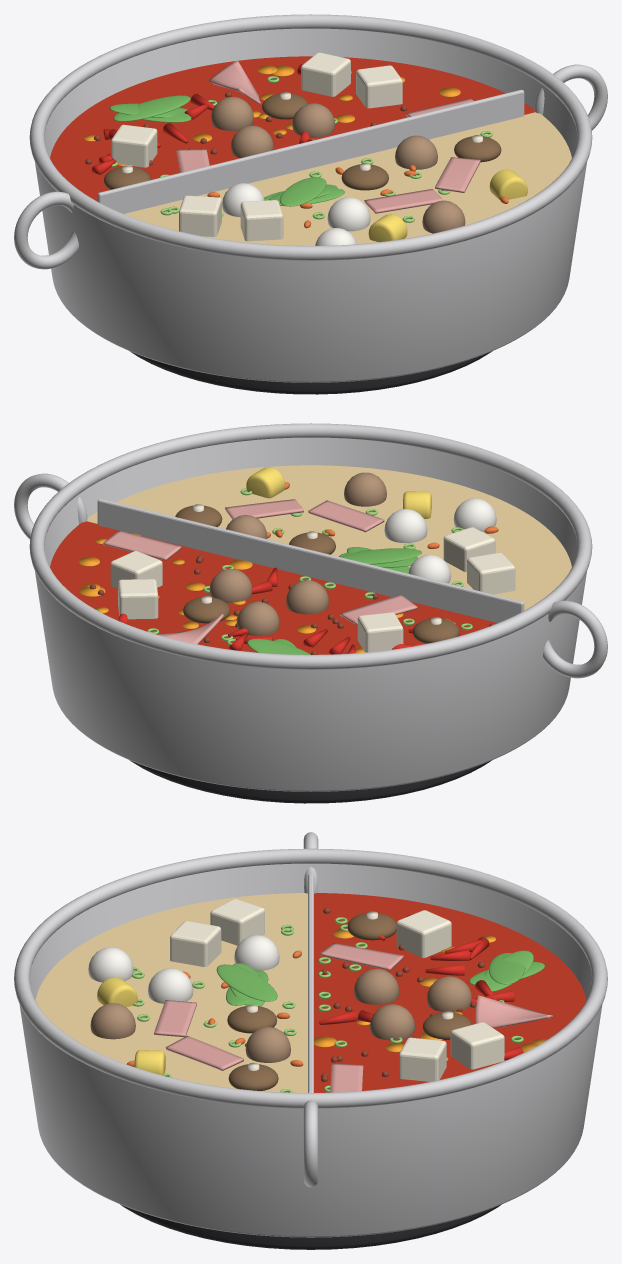
The model's file is yuanyang.glb.
3 views of the same model, one above another, from view 1: azimuth 30°, elevation 25°; view 2: azimuth 150°, elevation 25°; view 3: azimuth 270°, elevation 25° (orthographic). The views are drawn at different scales.
Parts seen in each view (by area): view 1: Pot, Rim, SpicyBroth, ClearBroth, Divider, Stove, HandleL, Tofu, Tofu.001, Tofu.002, Tofu.004, Tofu.003 (+21 smaller); view 2: Pot, Rim, ClearBroth, SpicyBroth, Divider, Stove, HandleL, Tofu.003, Tofu.002, Tofu, Tofu.004, HandleR (+22 smaller); view 3: Pot, ClearBroth, Rim, SpicyBroth, Stove, Tofu.002, Tofu, Tofu.004, Tofu.001, Tofu.003, BeefSlice, Meatball.001 (+22 smaller).
Boxes of the visible parts, x1,y1,x2,y2 form: Pot: (35, 28, 586, 382); Rim: (29, 14, 592, 260); SpicyBroth: (50, 56, 534, 201); ClearBroth: (124, 112, 571, 245); Divider: (97, 89, 524, 213); Stove: (130, 351, 492, 394); HandleL: (14, 191, 78, 269); Tofu: (301, 52, 350, 96); Tofu.001: (356, 65, 402, 108); Tofu.002: (111, 124, 157, 167); Tofu.004: (240, 200, 283, 241); Tofu.003: (179, 195, 221, 236); Pot: (35, 437, 586, 791); Rim: (29, 423, 592, 669); ClearBroth: (87, 465, 571, 610); SpicyBroth: (50, 521, 497, 654); Divider: (97, 498, 524, 622); Stove: (129, 760, 491, 803); HandleL: (543, 600, 607, 678); Tofu.003: (467, 552, 515, 594); Tofu.002: (357, 612, 403, 652); Tofu: (118, 579, 158, 619); Tofu.004: (443, 527, 495, 572); HandleR: (14, 473, 87, 539); Pot: (19, 863, 602, 1237); ClearBroth: (35, 893, 307, 1092); Rim: (14, 848, 607, 1108); SpicyBroth: (314, 893, 586, 1092); Stove: (120, 1204, 501, 1249); Tofu.002: (396, 910, 451, 957); Tofu: (450, 1022, 504, 1069); Tofu.004: (170, 921, 221, 966); Tofu.001: (399, 1037, 446, 1081); Tofu.003: (210, 899, 264, 945); BeefSlice: (475, 995, 552, 1027); Meatball.001: (354, 968, 399, 1004).
Bounding box in the file's own units: 3.17 × 0.902 × 2.61.
